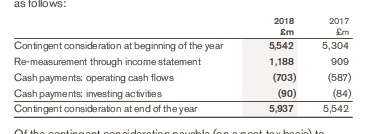table: (0, 0, 367, 134)
